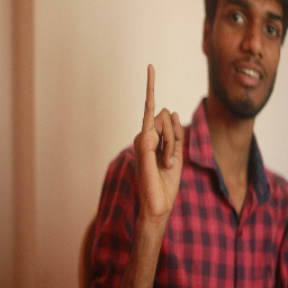I: (128, 64, 185, 216)
